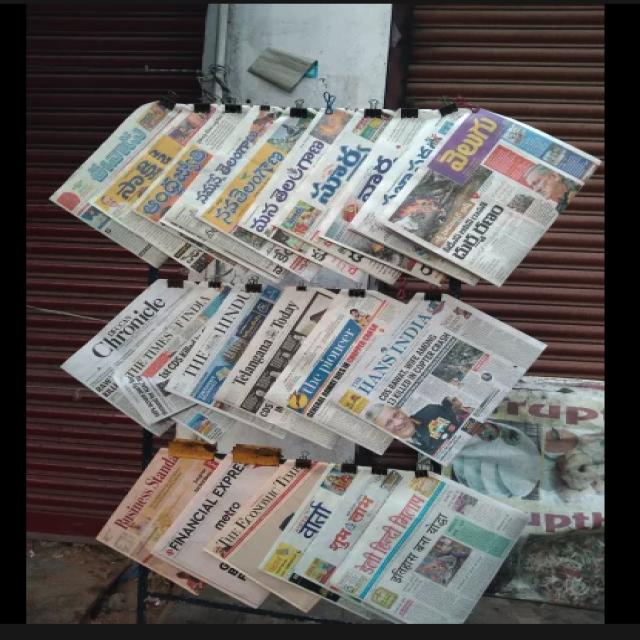Koran: (51, 98, 598, 617)
